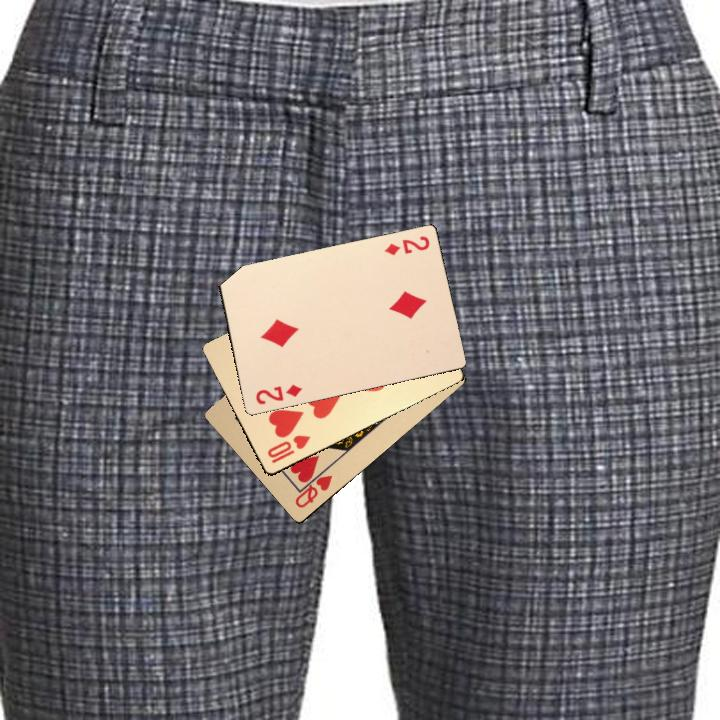10h: (263, 431, 313, 466)
2d: (252, 380, 304, 407), (380, 232, 432, 258)
Qh: (291, 464, 335, 511)
